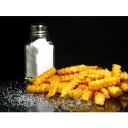frenchfries: (37, 64, 128, 104)
